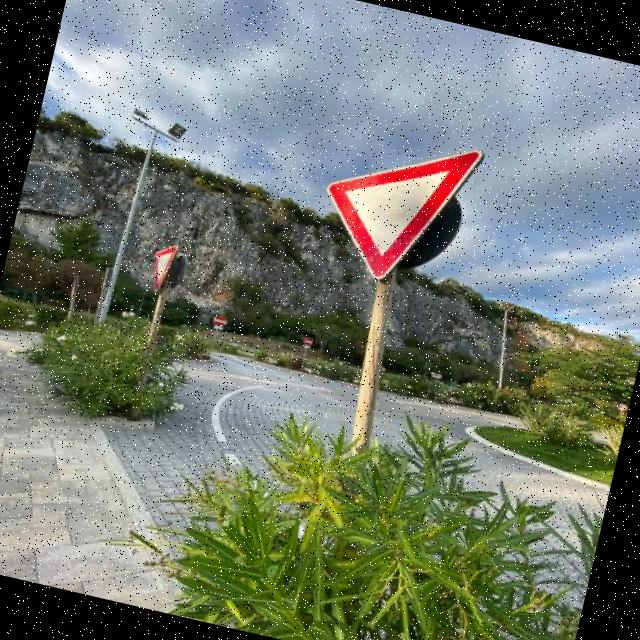give_way: (290, 110, 500, 306), (139, 233, 196, 306)
